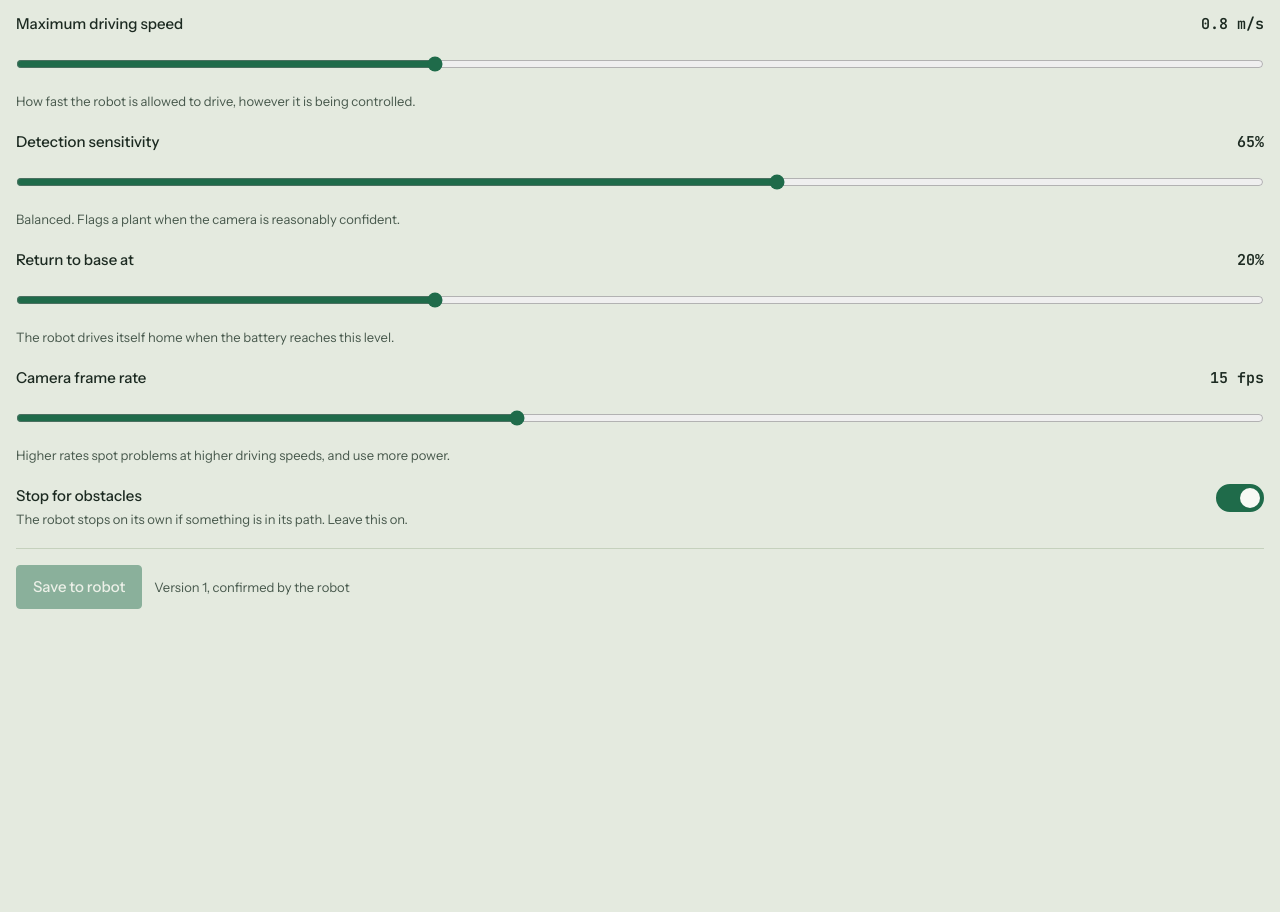
Test: ConfigForm › refuses honestly when there is no robot to send to
Click the switch named "stop for obstacles".
click(1240, 498)  # box [1216, 484, 1264, 512]
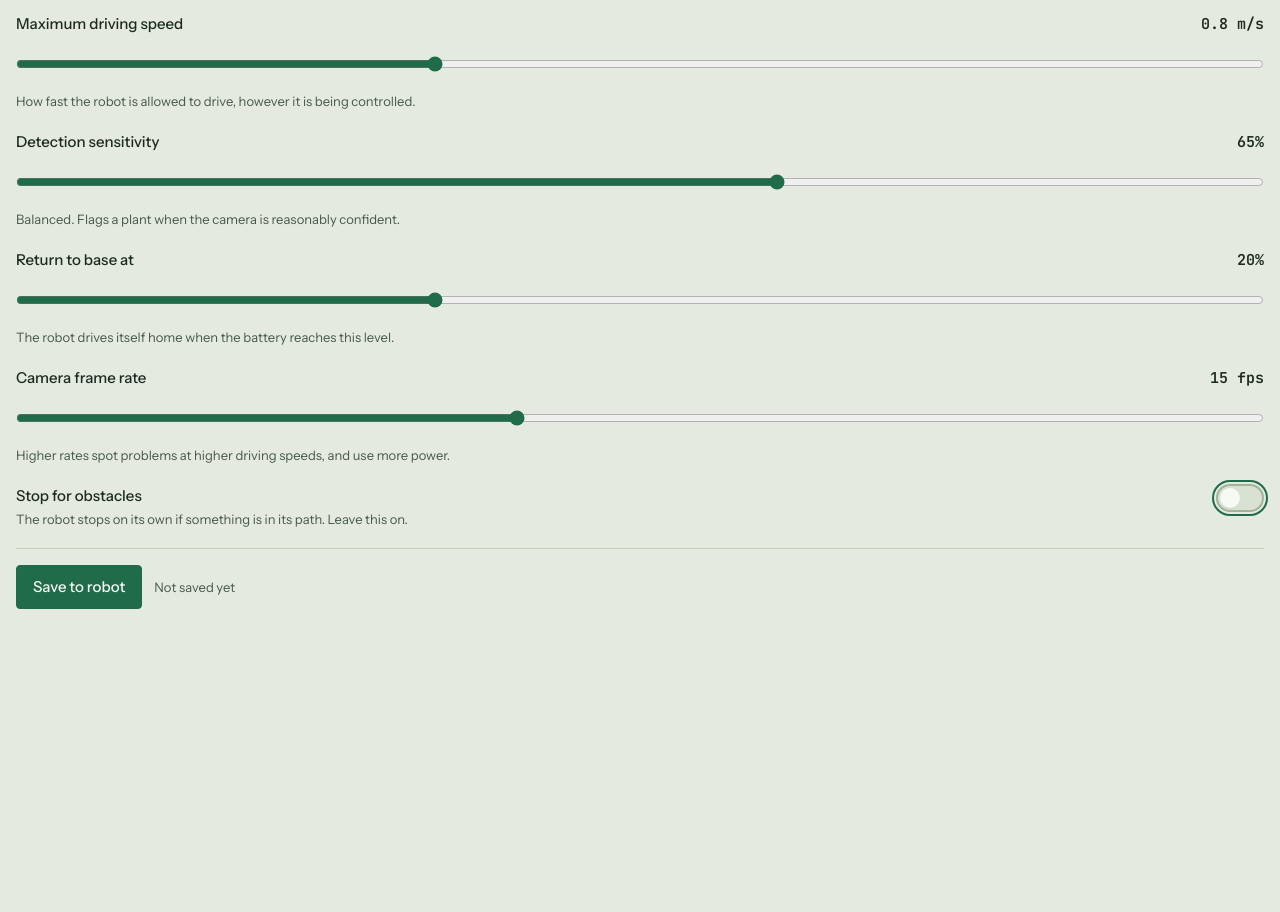
Click the button "Save to robot".
click(79, 587)  # box [16, 565, 142, 609]
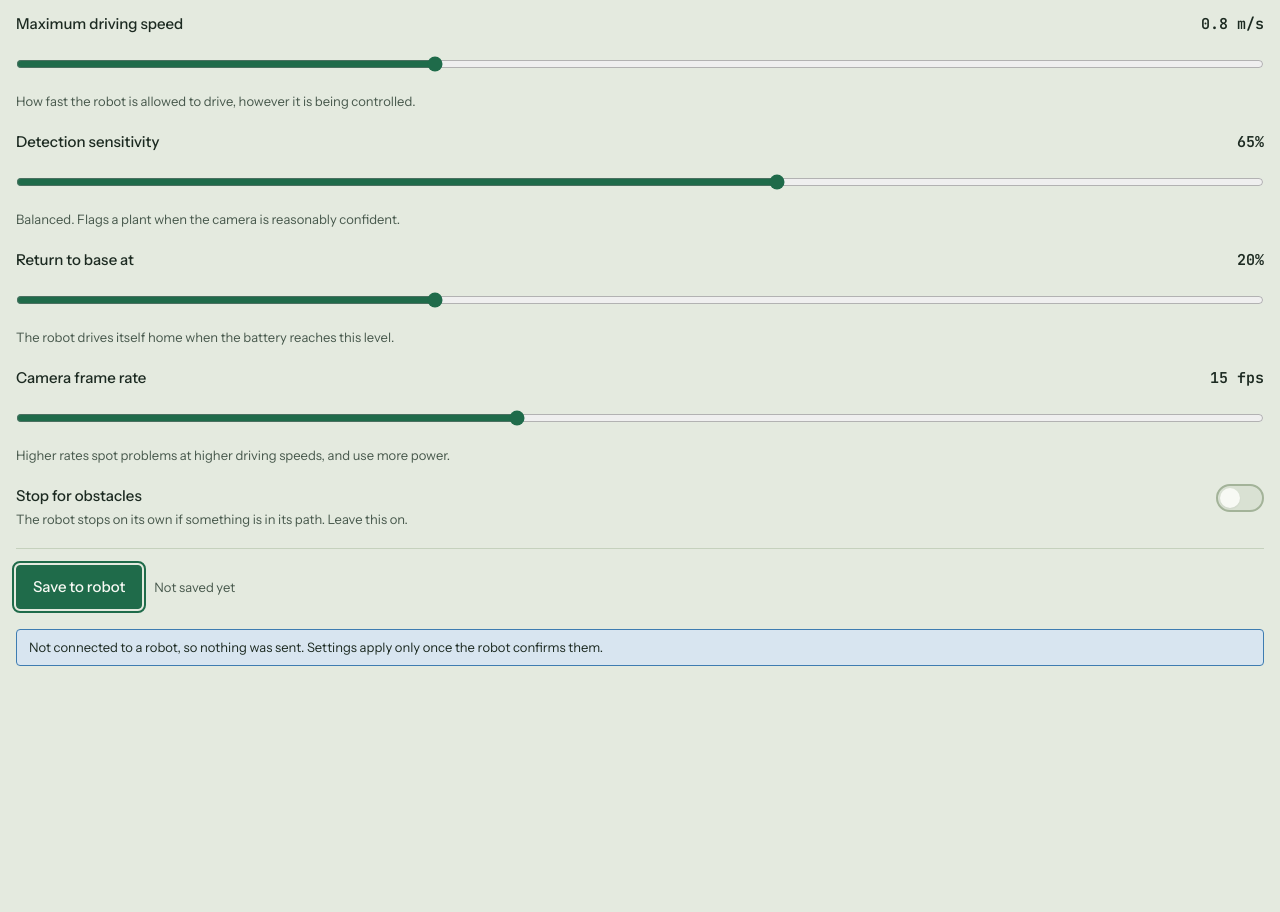
Now the message shows "nothing was sent", box [29, 639, 603, 655]
